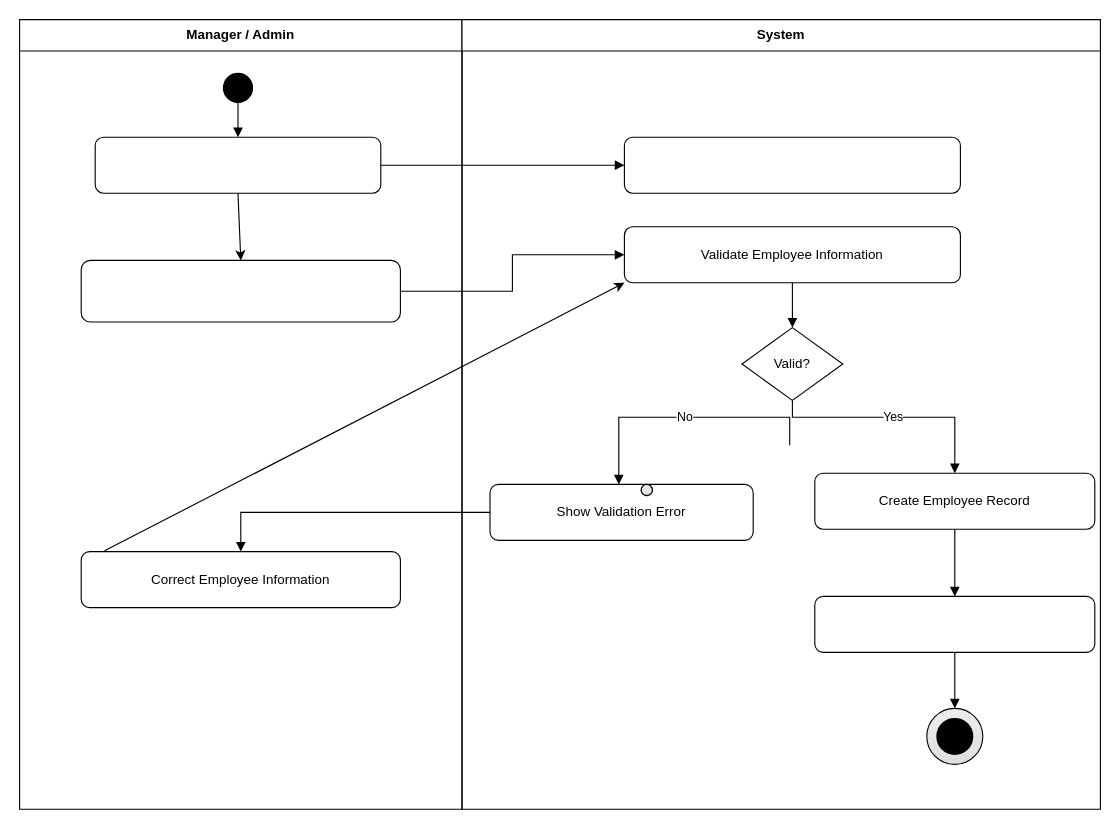
This 1120x829 diagram has some shape labels left out. The centre of each missing label's shape, as x and y in pixels:
Display Confirmation Message: the point at 954,623
Display Employee Record Form: the point at 791,164
Enter Official Employee Information: the point at 240,290
Open Employee Management: the point at 237,164
